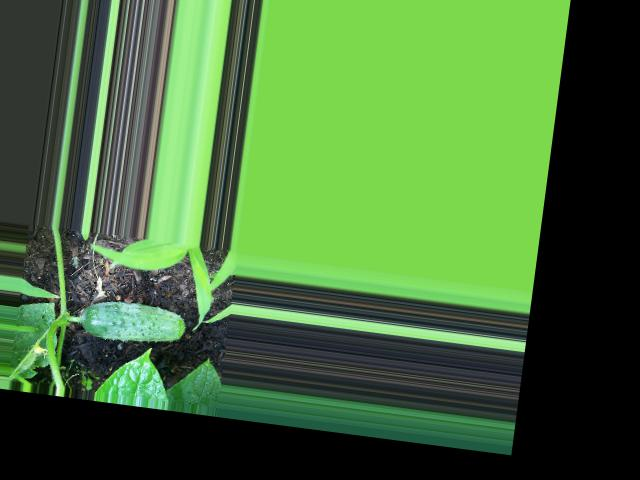cucumber: (78, 295, 189, 348)
